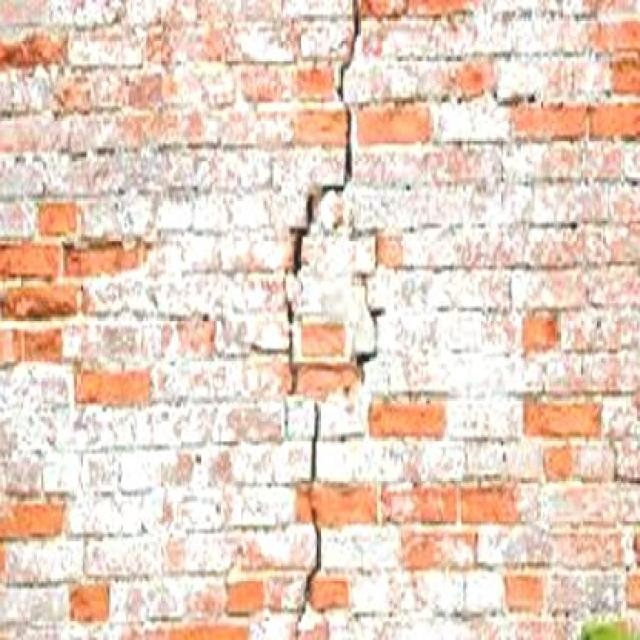Crack: (271, 0, 386, 636)
